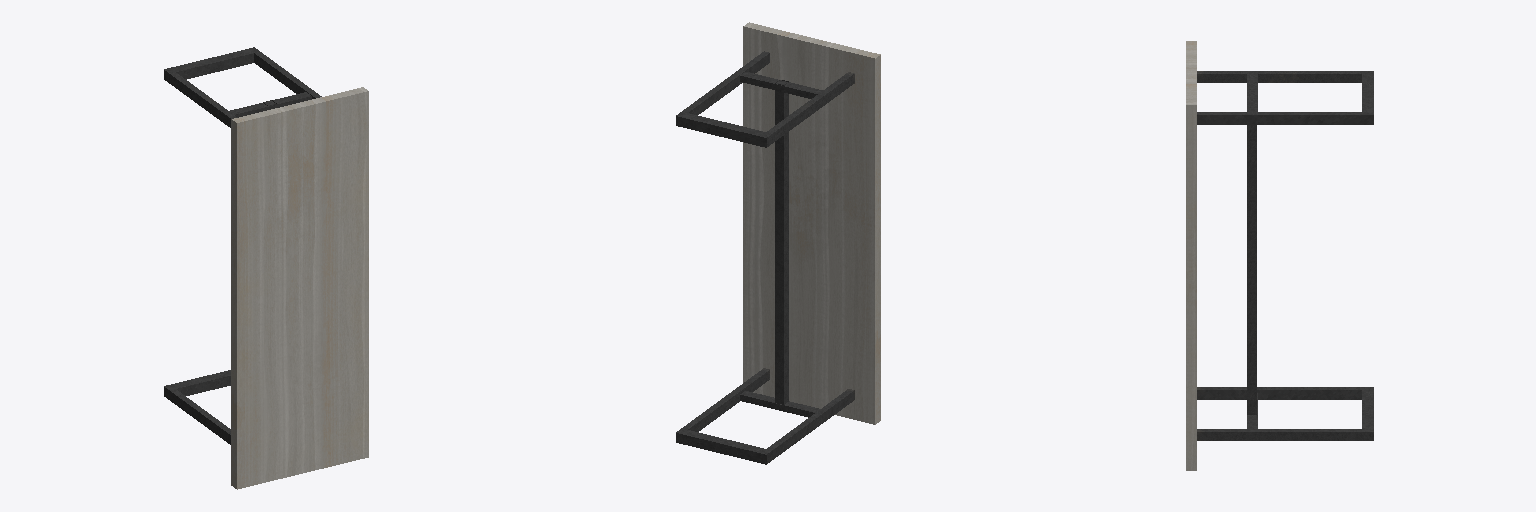
The picture shows the model from 3 angles: view 1: azimuth 30°, elevation 25°; view 2: azimuth 150°, elevation 25°; view 3: azimuth 270°, elevation 25°; orthographic projection.
Parts seen in each view (by area): view 1: FoodCourtBenchShort; view 2: FoodCourtBenchShort; view 3: FoodCourtBenchShort.
Boxes of the visible parts, x1,y1,x2,y2 form: FoodCourtBenchShort: [164, 47, 368, 489]; FoodCourtBenchShort: [676, 22, 880, 464]; FoodCourtBenchShort: [1186, 41, 1373, 470].
Size of the model in its own units: 0.3493 by 0.9268 by 0.4302.
1 materials, 1 textured.